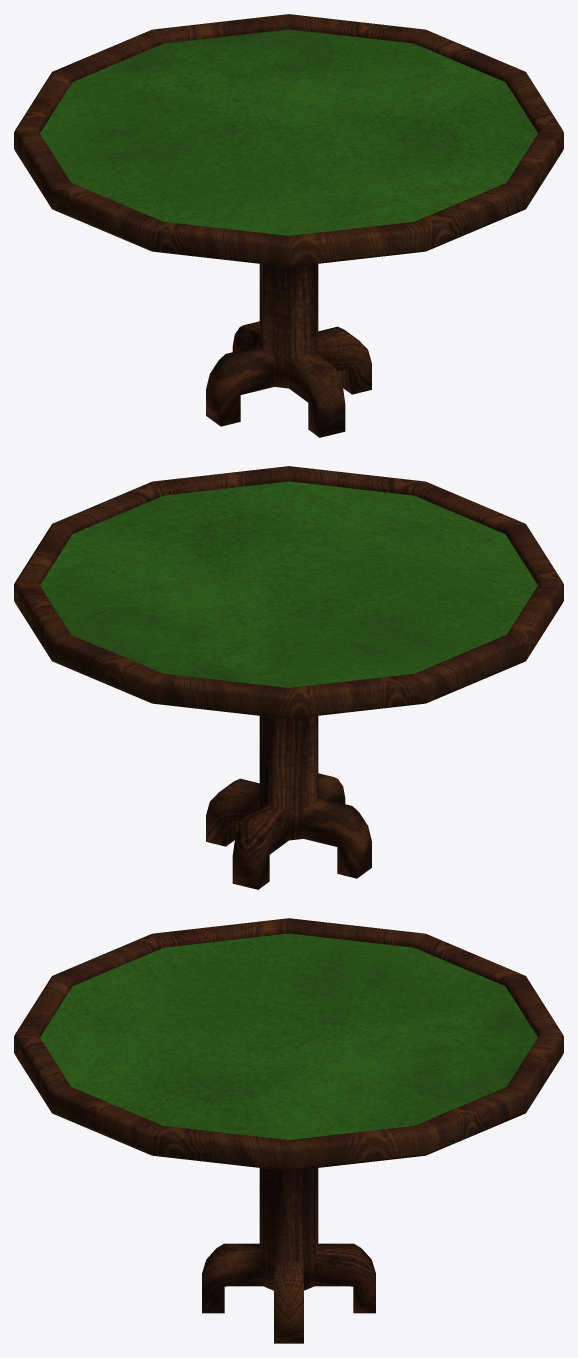
Rendered from PokerTable.glb.
The picture shows the model from 3 angles, top to bottom: view 1: azimuth 30°, elevation 25°; view 2: azimuth 150°, elevation 25°; view 3: azimuth 270°, elevation 25°; orthographic projection.
Parts seen in each view (by area): view 1: PokerTable; view 2: PokerTable; view 3: PokerTable.
Boxes of the visible parts, x1,y1,x2,y2 form: PokerTable: (14, 14, 563, 437); PokerTable: (14, 466, 563, 889); PokerTable: (14, 918, 563, 1343).
Bounding box in the file's own units: 1.36 × 0.75 × 1.36.
1 material, 1 textured.
